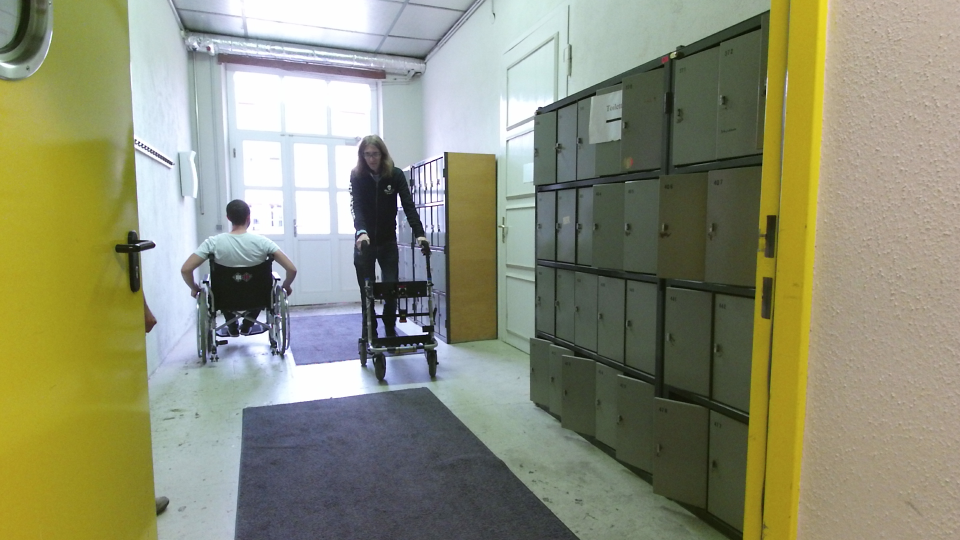wheelchair: (183, 193, 303, 371)
